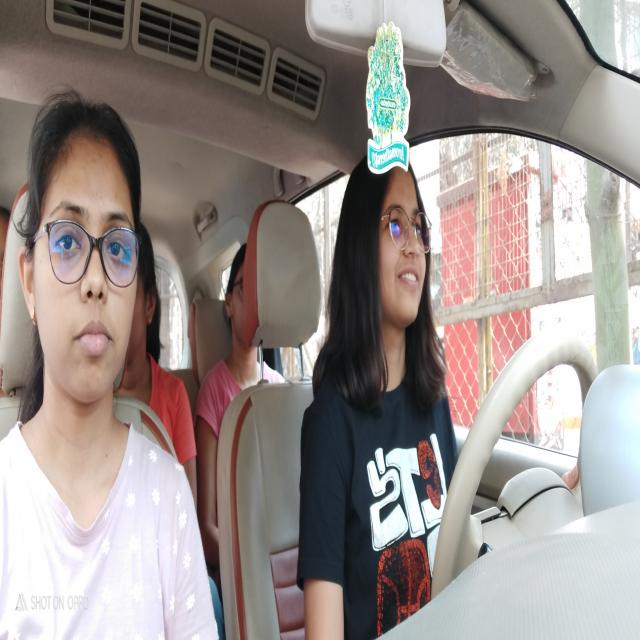person: (21, 90, 144, 414), (338, 143, 438, 388), (226, 234, 256, 366), (137, 224, 162, 382)
